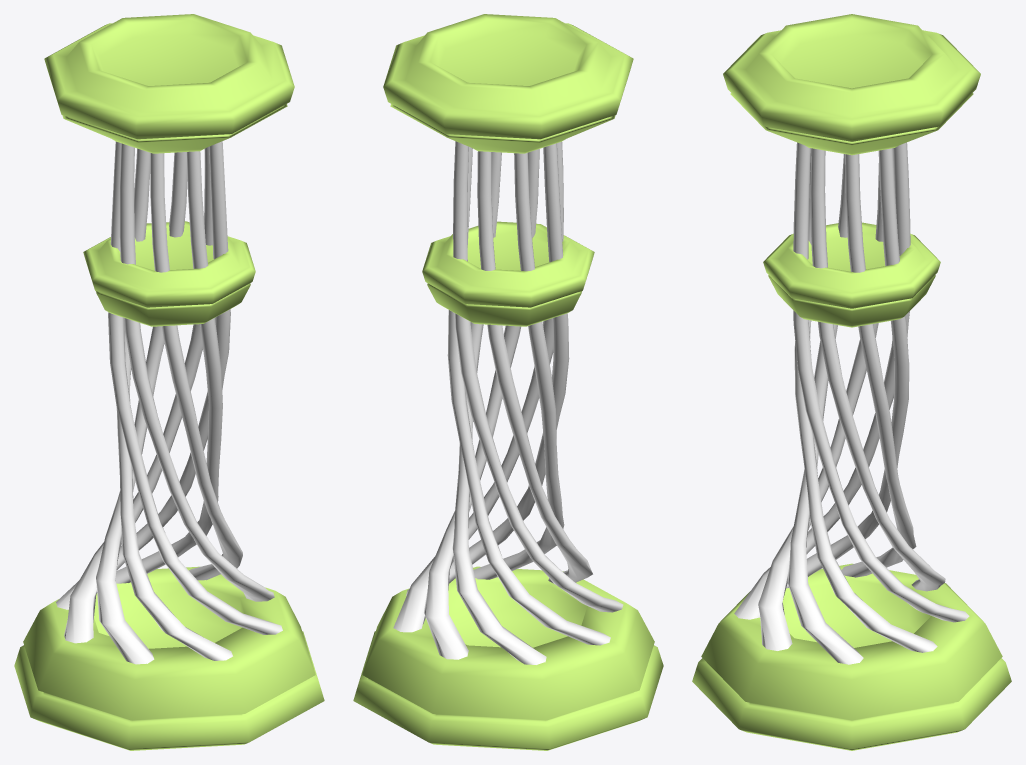
The picture shows the model from 3 angles, left to right: view 1: azimuth 30°, elevation 25°; view 2: azimuth 150°, elevation 25°; view 3: azimuth 270°, elevation 25°; orthographic projection.
Visible parts, largest first — view 1: base; view 2: base; view 3: base.
Boxes of the visible parts, left/top/right/bottom form: base: left=14, top=14, right=324, bottom=750; base: left=353, top=14, right=663, bottom=750; base: left=692, top=14, right=1011, bottom=750.
Size of the model in its own units: 1.62 by 3.54 by 1.62.
